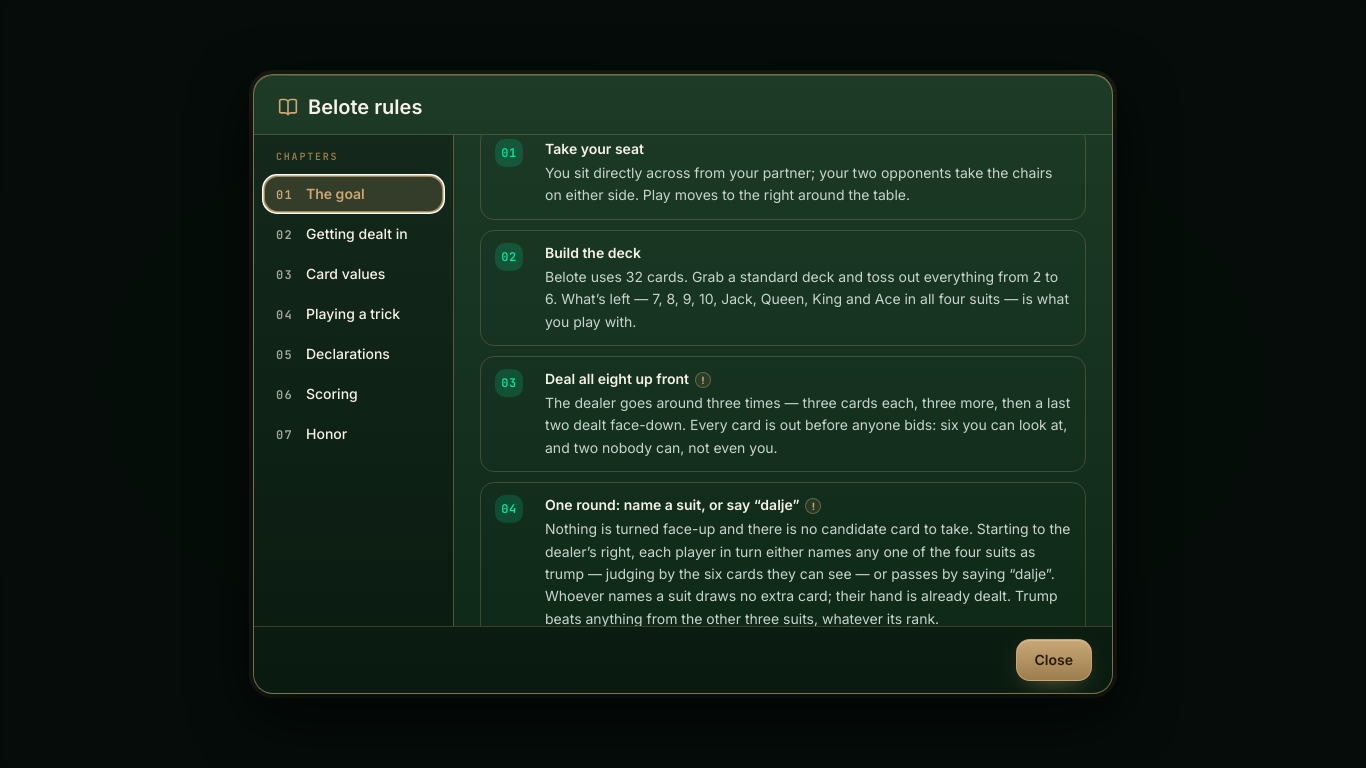
Test case: RulesDialog (in-game) › marks each divergent step individually in the overlay
(page scrolled)
Hover over the button with test id "rules-diff-marker" at (703, 380), box 695,372 -> 711,388
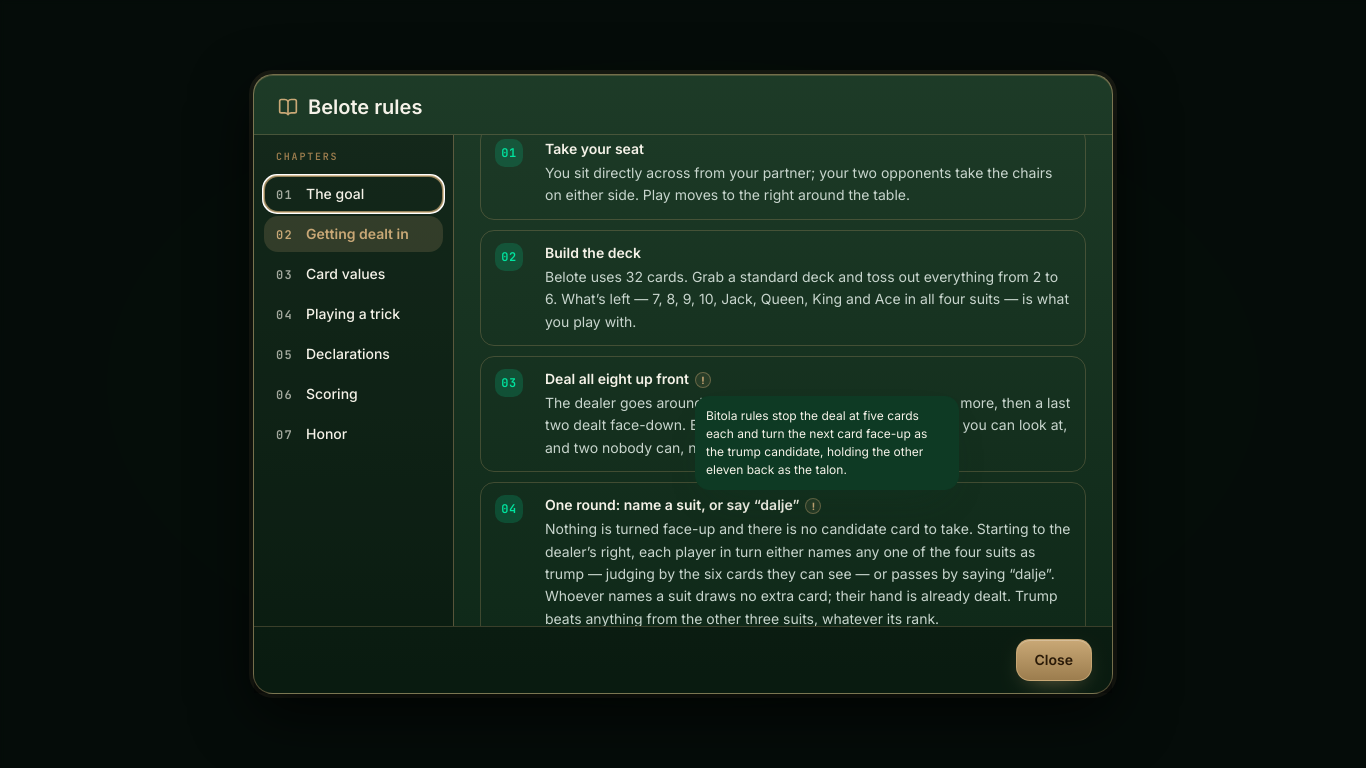
Check: the text "Bitola rules stop the deal at five cards each" is shown, box 706,408 -> 927,477
